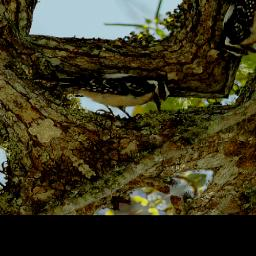Woodpecker: (31, 30, 187, 145)
